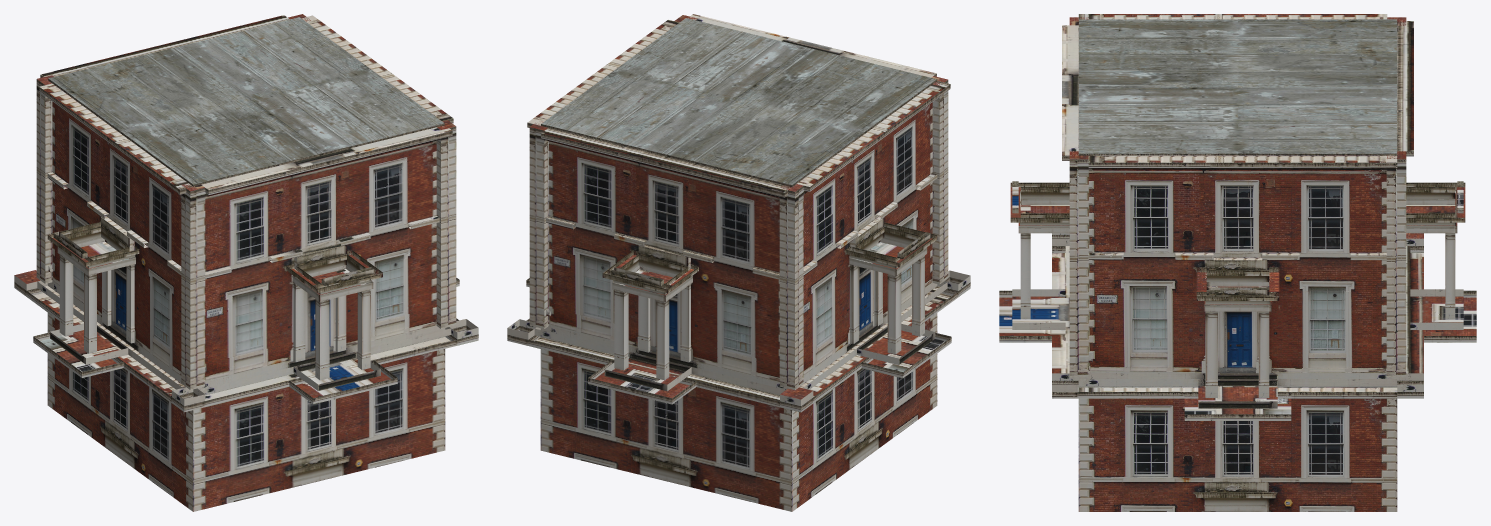
File: BagBuilding13_70.fbx
The picture shows the model from 3 angles, left to right: view 1: azimuth 30°, elevation 25°; view 2: azimuth 150°, elevation 25°; view 3: azimuth 270°, elevation 25°; orthographic projection. The views are drawn at different scales.
Parts seen in each view (by area): view 1: main70, roof70, Box70; view 2: main70, roof70, Box70; view 3: main70, roof70, Box70.
Boxes of the visible parts, x1,y1,x2,y2 form: main70: (14, 14, 478, 511); roof70: (48, 17, 443, 184); Box70: (48, 78, 444, 356); main70: (507, 14, 970, 511); roof70: (541, 18, 936, 184); Box70: (541, 79, 936, 356); main70: (999, 14, 1476, 511); roof70: (1079, 19, 1396, 153); Box70: (1079, 153, 1396, 367).
Size of the model in its own units: 30.48 by 25.23 by 30.48.
